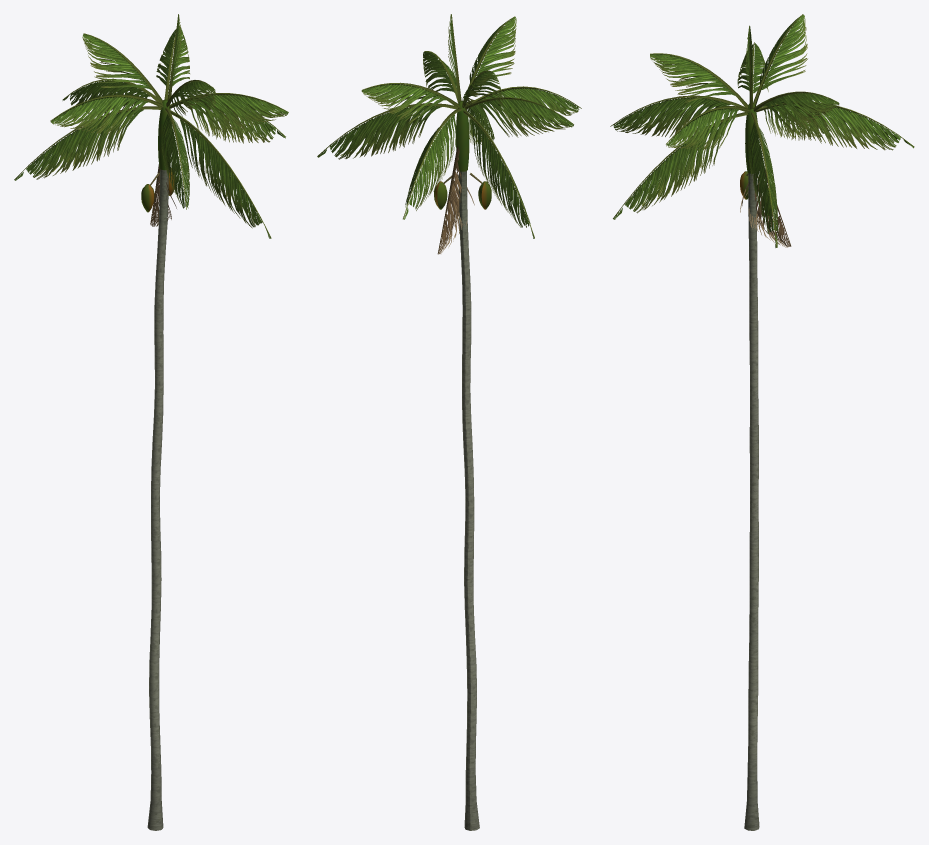
Rendered from areca.glb.
The picture shows the model from 3 angles, left to right: view 1: azimuth 30°, elevation 25°; view 2: azimuth 150°, elevation 25°; view 3: azimuth 270°, elevation 25°; orthographic projection.
Parts seen in each view (by area): view 1: areca_fronds, areca_trunk, areca_misc; view 2: areca_fronds, areca_trunk, areca_misc; view 3: areca_fronds, areca_trunk, areca_misc.
Part boxes in pixels (x1,y1,x2,y2): areca_fronds: (14, 14, 288, 238); areca_trunk: (147, 169, 168, 830); areca_misc: (14, 14, 288, 238); areca_fronds: (317, 14, 579, 254); areca_trunk: (458, 171, 479, 830); areca_misc: (317, 14, 581, 253); areca_fronds: (613, 14, 914, 247); areca_trunk: (744, 173, 759, 830); areca_misc: (610, 14, 914, 247).
Bounding box in the file's own units: 4.56 × 14.28 × 4.85.
Materials: 3 (2 with a texture image).
